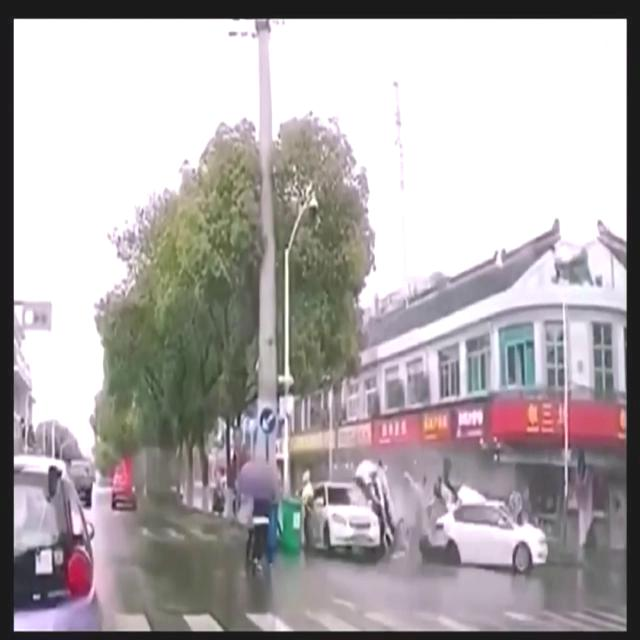accident: (300, 457, 554, 575)
non-accident: (64, 458, 140, 514)
